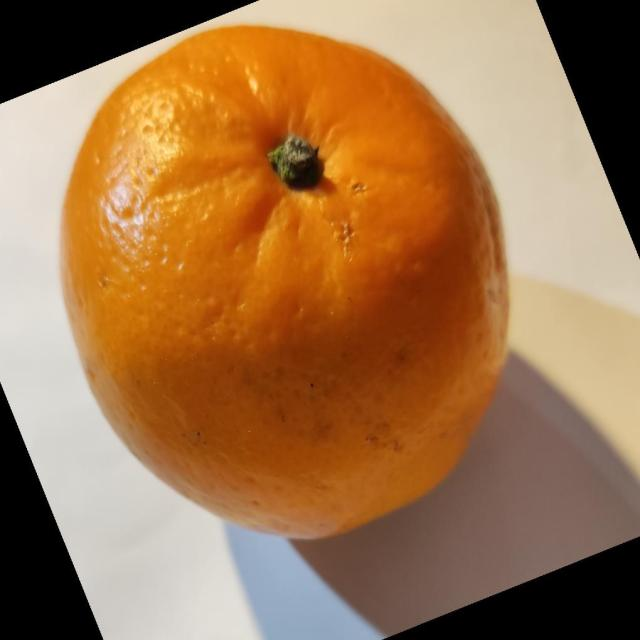fresh orange: (59, 23, 512, 542)
